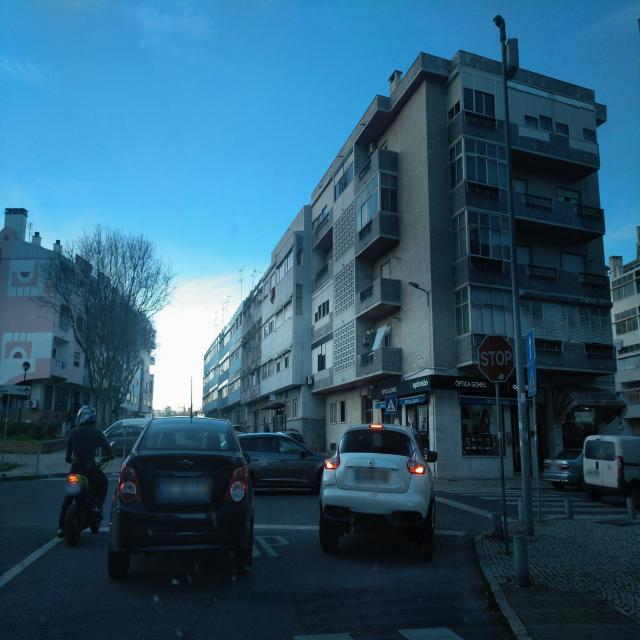bike: (58, 443, 116, 547)
car: (107, 411, 255, 580), (318, 421, 436, 557), (236, 432, 330, 494), (581, 434, 640, 502), (101, 417, 148, 456), (543, 447, 583, 489)
